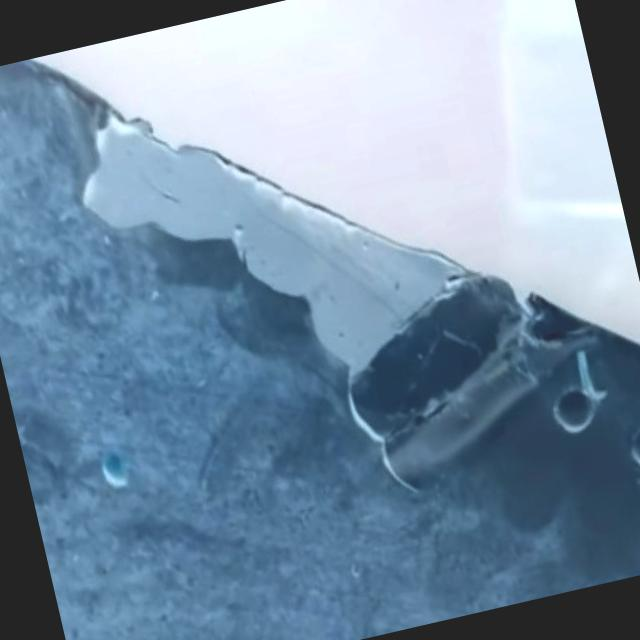crack: (339, 359, 403, 475)
